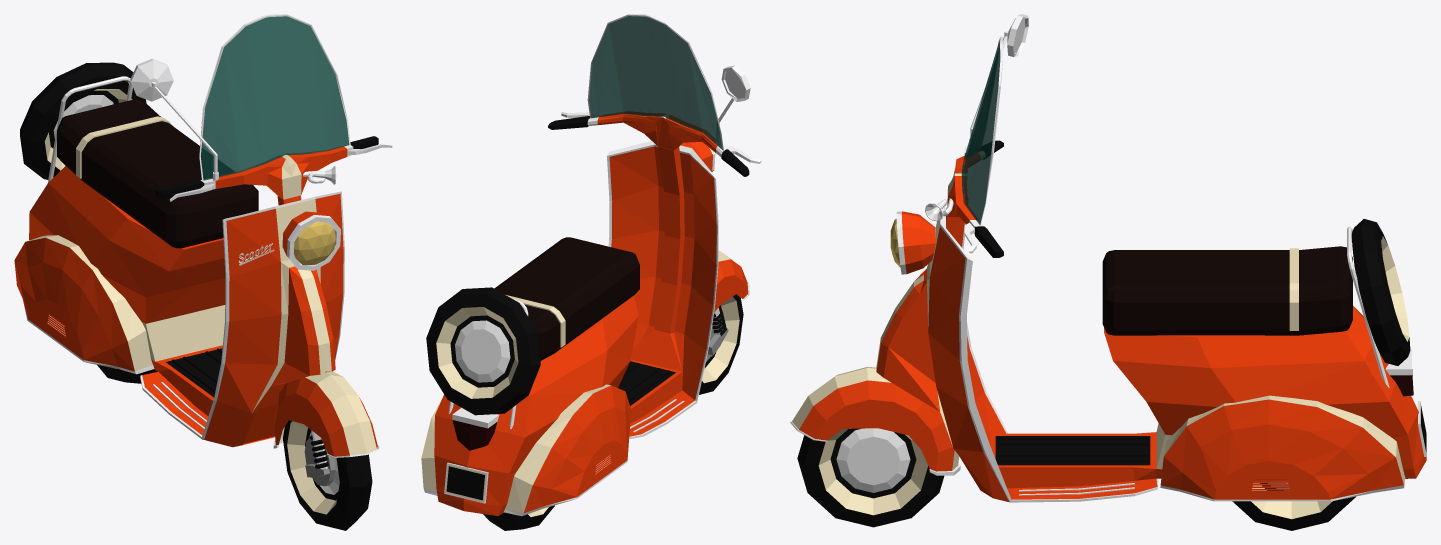
Rendered from Scooter_02.FBX.
3 views of the same model, side by side, from view 1: azimuth 30°, elevation 25°; view 2: azimuth 150°, elevation 25°; view 3: azimuth 270°, elevation 25° (orthographic). The views are drawn at different scales.
Parts seen in each view (by area): view 1: Scooter_02, handlebar, seat, mudguard, wheel_spare, wheel_front, mirror, headLights, lights, brake_front, sparewheelHolder, wheel_back; view 2: Scooter_02, handlebar, wheel_spare, seat, wheel_front, licensePlate, mudguard, lights, mirror, wheel_back, tailLights, brake_front; view 3: Scooter_02, seat, wheel_front, mudguard, handlebar, wheel_spare, wheel_back, lights, mirror, sparewheelHolder.
Boxes of the visible parts, bbox=[...] form: Scooter_02: bbox=[14, 166, 344, 447]; handlebar: bbox=[155, 14, 392, 201]; seat: bbox=[57, 99, 258, 248]; mudguard: bbox=[273, 371, 379, 457]; wheel_spare: bbox=[20, 62, 146, 179]; wheel_front: bbox=[283, 420, 372, 530]; mirror: bbox=[130, 58, 218, 180]; headLights: bbox=[293, 221, 335, 265]; lights: bbox=[282, 211, 340, 270]; brake_front: bbox=[304, 430, 335, 486]; sparewheelHolder: bbox=[48, 76, 132, 182]; wheel_back: bbox=[97, 365, 157, 383]; Scooter_02: bbox=[421, 141, 718, 516]; handlebar: bbox=[548, 14, 761, 176]; wheel_spare: bbox=[426, 287, 540, 415]; seat: bbox=[494, 237, 639, 360]; wheel_front: bbox=[699, 294, 743, 394]; licensePlate: bbox=[444, 462, 488, 503]; mudguard: bbox=[714, 251, 749, 311]; lights: bbox=[452, 142, 715, 428]; mirror: bbox=[715, 65, 750, 144]; wheel_back: bbox=[483, 505, 554, 530]; tailLights: bbox=[452, 420, 497, 450]; brake_front: bbox=[707, 307, 728, 357]; Scooter_02: bbox=[876, 199, 1426, 502]; seat: bbox=[1102, 246, 1352, 335]; wheel_front: bbox=[797, 428, 944, 527]; mudguard: bbox=[790, 366, 960, 475]; handlebar: bbox=[947, 36, 1003, 257]; wheel_spare: bbox=[1351, 219, 1410, 365]; wheel_back: bbox=[1232, 483, 1356, 530]; lights: bbox=[896, 211, 1411, 375]; mirror: bbox=[970, 14, 1028, 137]; sparewheelHolder: bbox=[1347, 227, 1389, 387].
Size of the model in its own units: 8.98 by 16.98 by 20.22.
